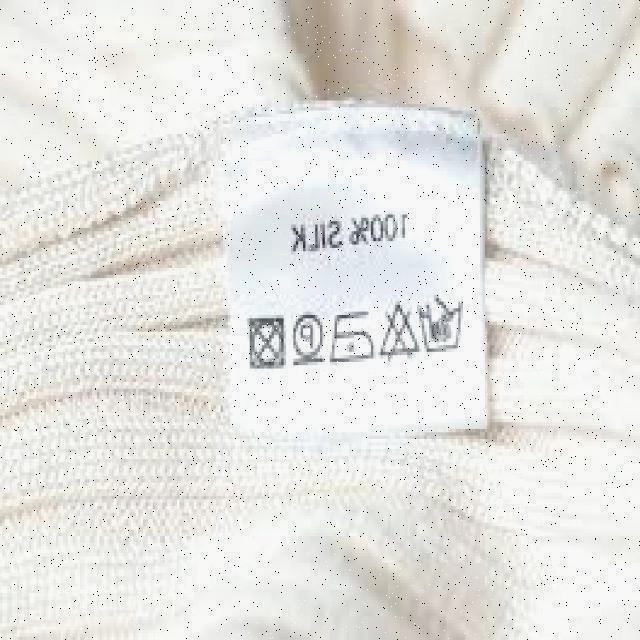DN_bleach: (377, 300, 419, 360)
DN_tumble_dry: (243, 311, 286, 373)
dry_clean_any_solvent_except_trichloroethylene: (289, 312, 325, 369)
hand_wash: (417, 294, 468, 354)
iron_low: (328, 306, 373, 365)
